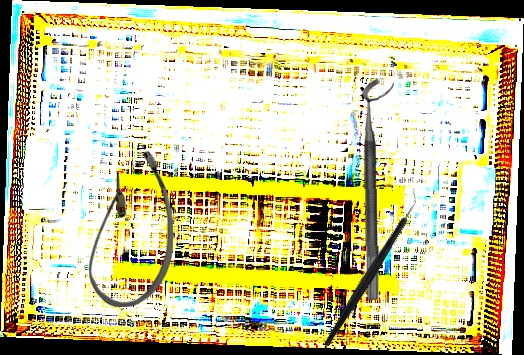Cannula: (89, 151, 173, 307)
Chopper: (282, 186, 460, 348)
Fixation Ring: (361, 77, 399, 300)
